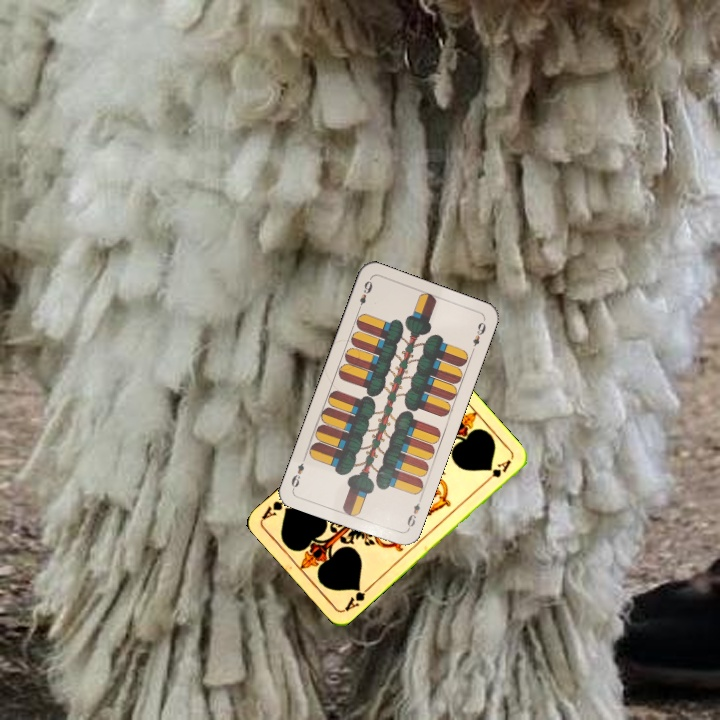E9: (403, 494, 424, 533), (353, 277, 375, 314)
GA: (340, 582, 374, 614)
